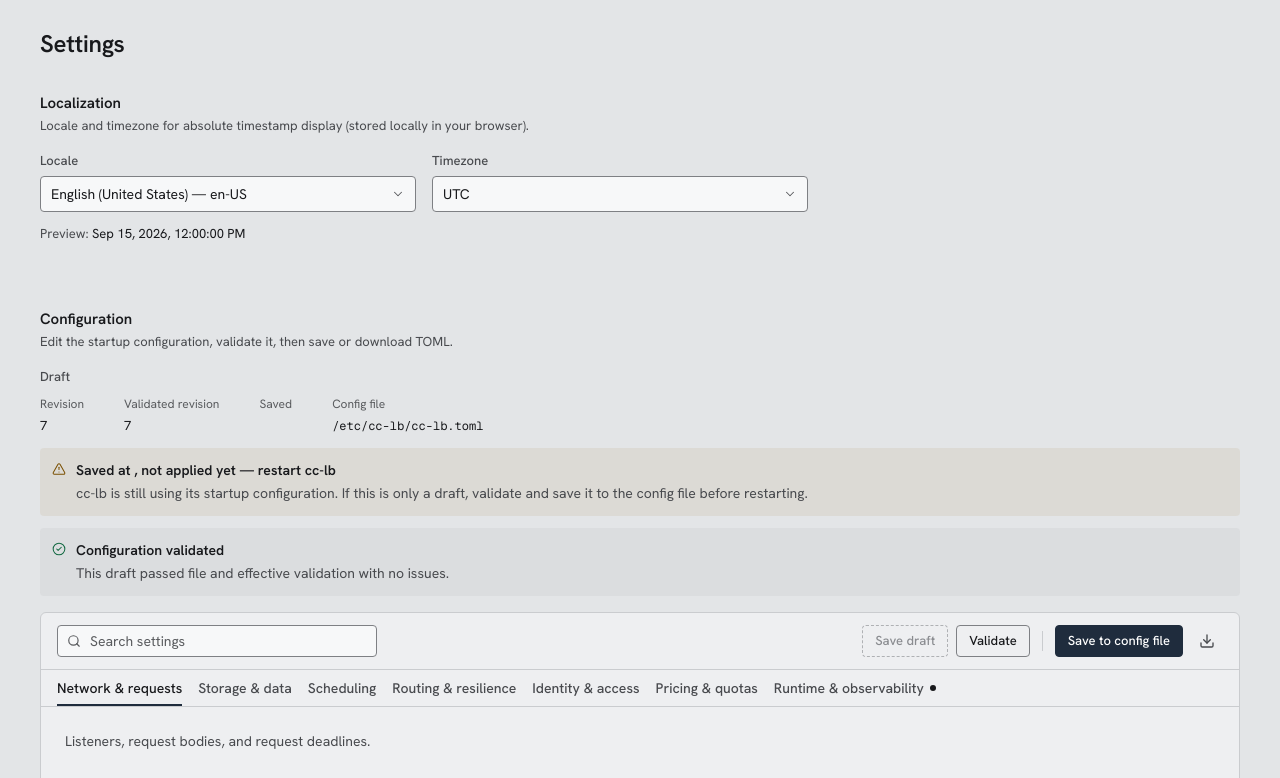
Test: unknown file keys land in the Other settings fallback area
Click the button "Runtime & observability" at (855, 688), box [774,670,936,706]
(page scrolled)
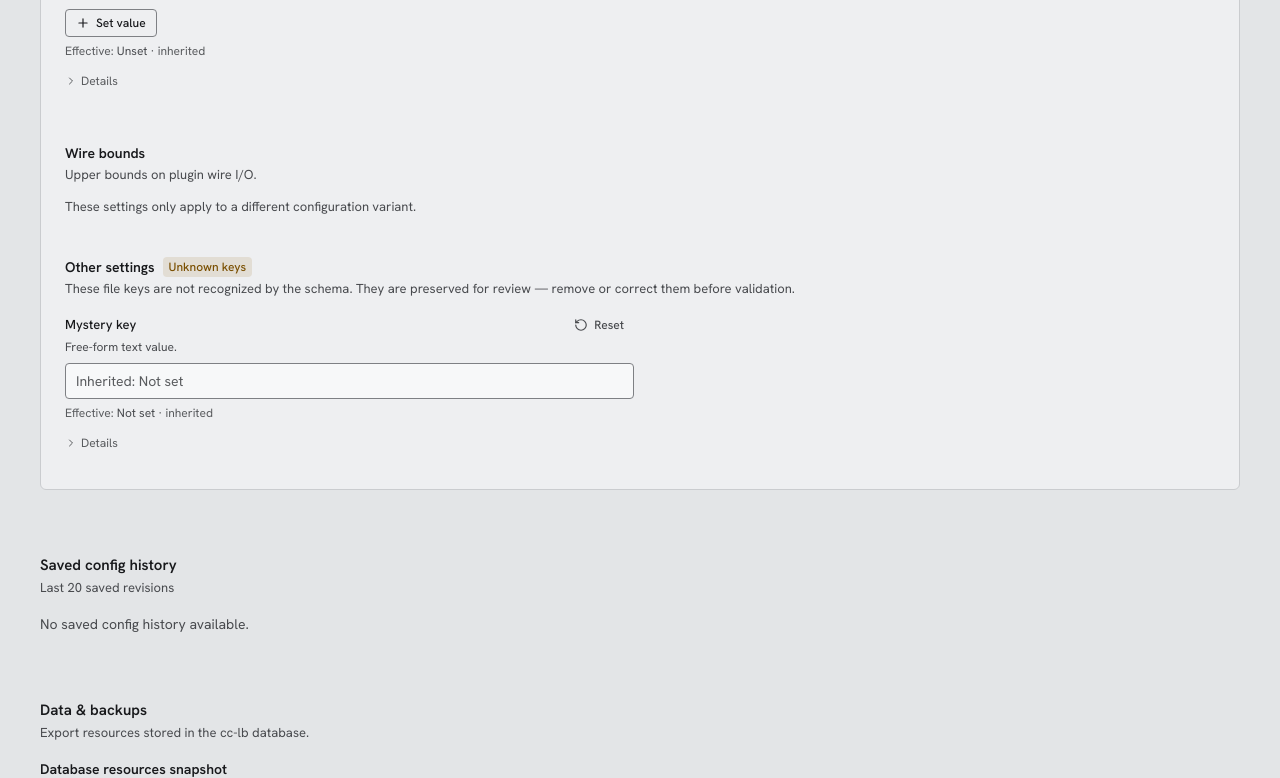
Result: the heading "Other settings" is shown at [65,257,154,277]
Result: the element that starts with "Mystery key" is shown at [65,311,634,465]
